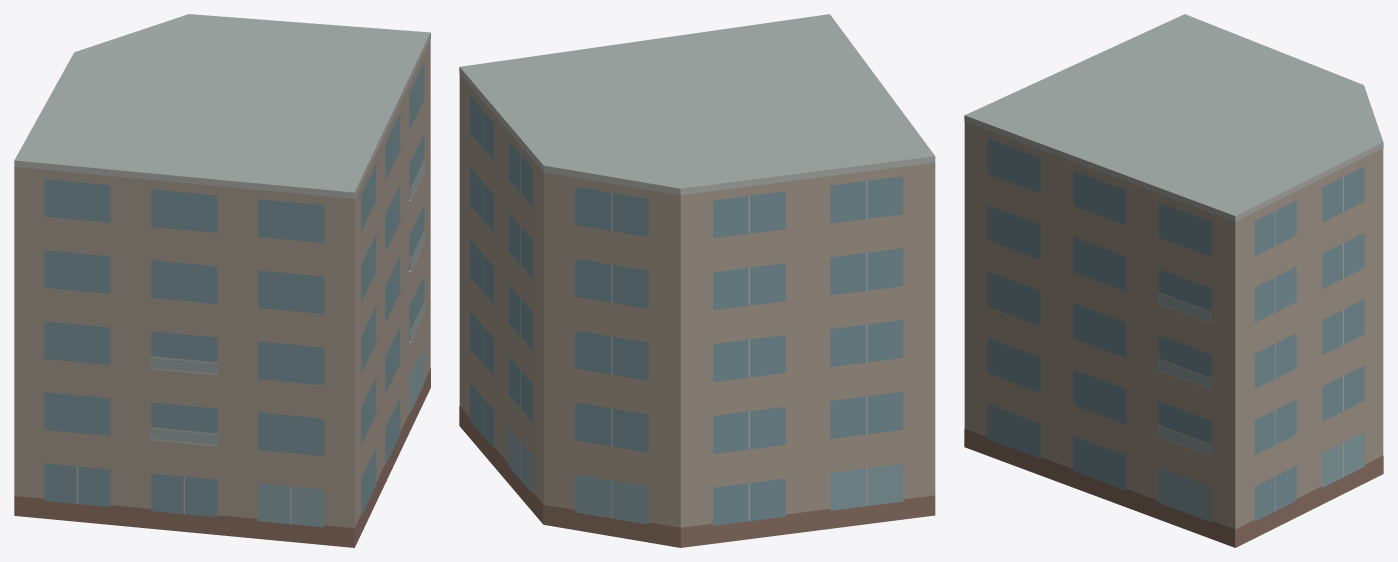
Rendered from survey-upis-32526040.glb.
The picture shows the model from 3 angles, left to right: view 1: azimuth 30°, elevation 25°; view 2: azimuth 150°, elevation 25°; view 3: azimuth 270°, elevation 25°; orthographic projection. The views are drawn at different scales.
Visible parts, largest first — view 1: survey-upis-32526040.tmp; view 2: survey-upis-32526040.tmp; view 3: survey-upis-32526040.tmp.
Boxes of the visible parts, x1,y1,x2,y2 form: survey-upis-32526040.tmp: (14,14,430,547); survey-upis-32526040.tmp: (459,14,935,547); survey-upis-32526040.tmp: (964,14,1383,547).
Size of the model in its own units: 17.65 by 13.5 by 15.46.
